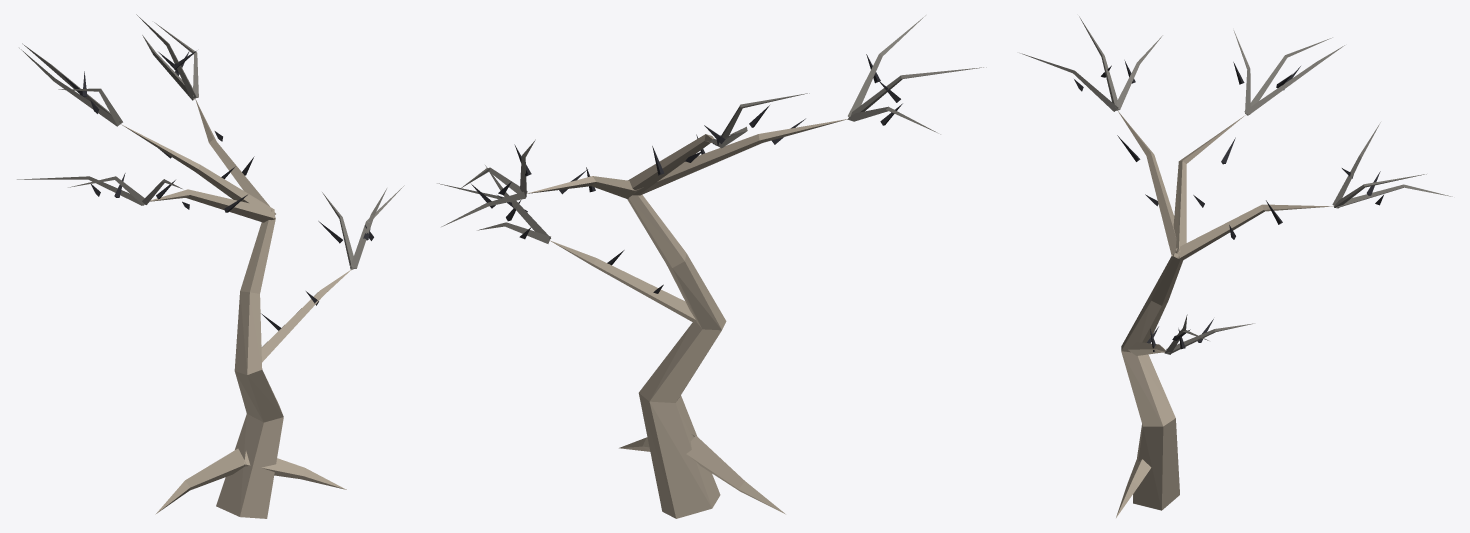
Rendered from Circle7Piece_Tree9.obj.
3 renders of one model, left to right at view 1: azimuth 30°, elevation 25°; view 2: azimuth 150°, elevation 25°; view 3: azimuth 270°, elevation 25°, orthographic. The views are drawn at different scales.
Parts seen in each view (by area): view 1: Circle7Piece_Tree9; view 2: Circle7Piece_Tree9; view 3: Circle7Piece_Tree9.
Boxes of the visible parts, <box> form: Circle7Piece_Tree9: <box>17,14,404,518</box>; Circle7Piece_Tree9: <box>437,15,986,518</box>; Circle7Piece_Tree9: <box>1020,16,1452,517</box>.
Bounding box in the file's own units: 5.89 × 5.86 × 5.74.
Materials: 1 (1 with a texture image).
